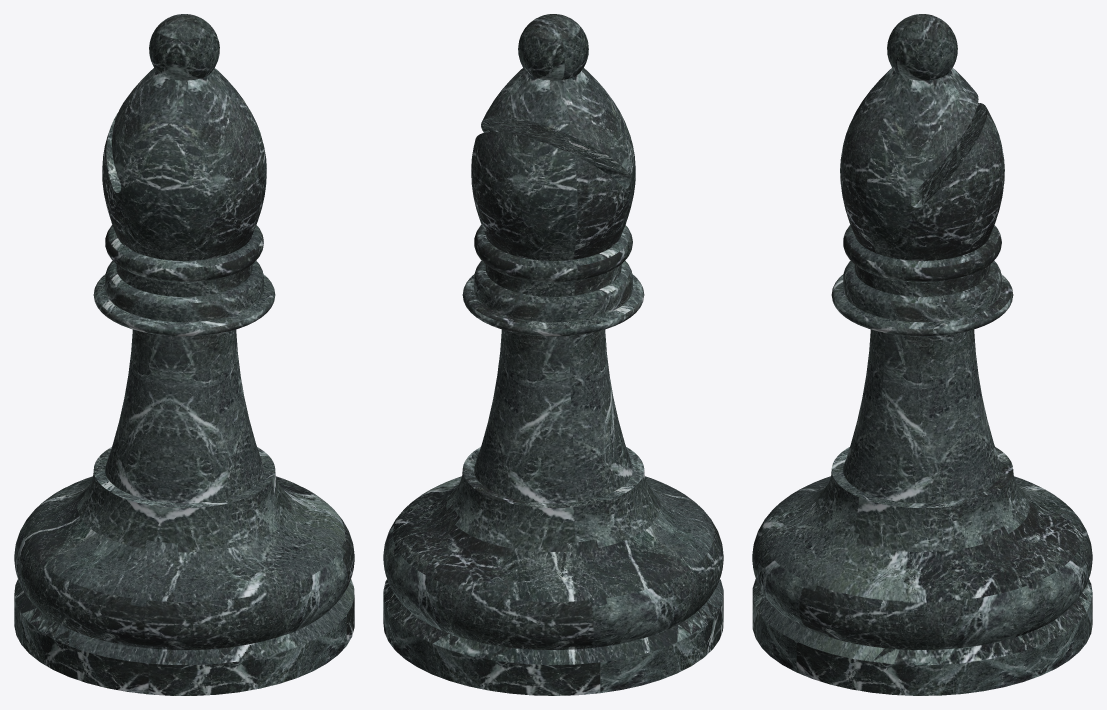
The model's file is Black-Bishop.glb.
3 views of the same model, side by side, from view 1: azimuth 30°, elevation 25°; view 2: azimuth 150°, elevation 25°; view 3: azimuth 270°, elevation 25° (orthographic).
Parts seen in each view (by area): view 1: ASSET_Joined; view 2: ASSET_Joined; view 3: ASSET_Joined.
Part boxes in pixels (<box>): ASSET_Joined: <box>14,14,354,695</box>; ASSET_Joined: <box>383,14,723,695</box>; ASSET_Joined: <box>752,14,1092,695</box>.
Size of the model in its own units: 30.49 by 60 by 30.5.
1 material, 1 textured.
